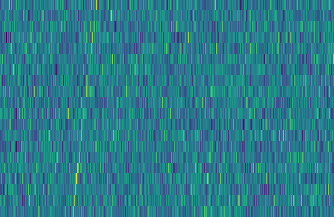signal: (66, 0, 100, 217)
